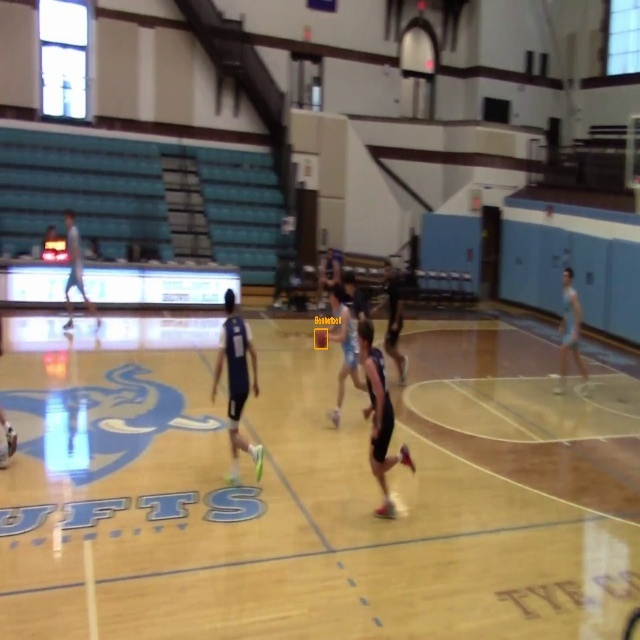Basketball: (315, 329, 328, 349)
